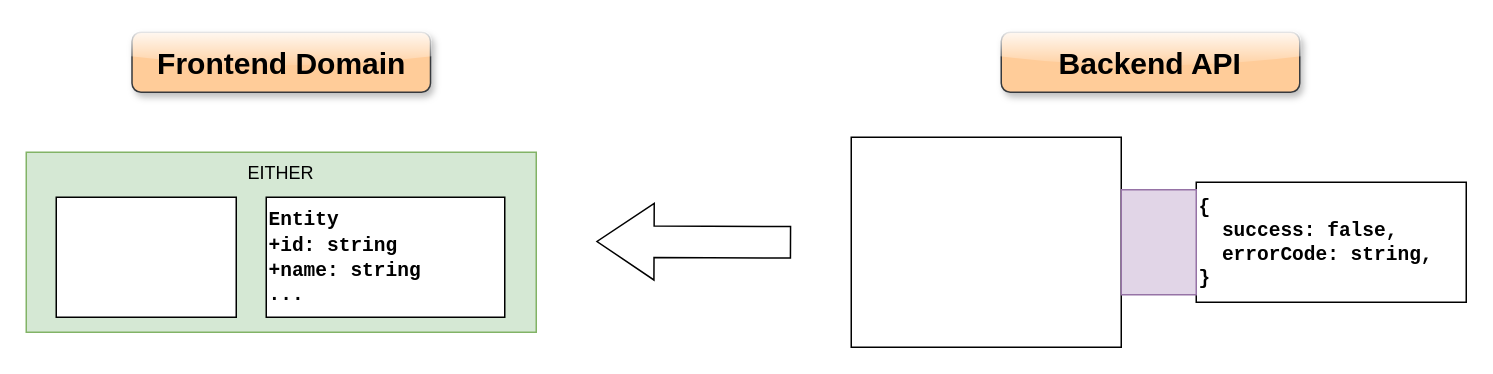
This 1493x374 diagram has some shape labels left out. Each missing label, with the centre of its shape:
ApiError +code: string: point 145,256
UNION: point 1158,241
{ success: true, data: { id: string, name: string, ... }, }: point 985,241
